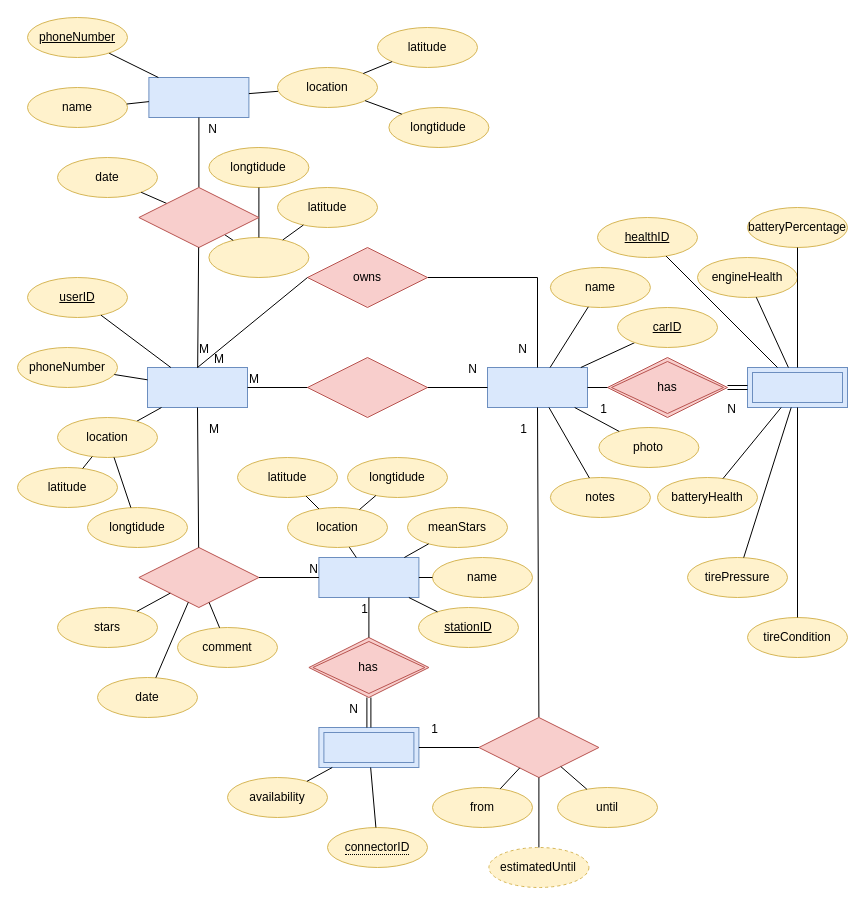
Image size: 865x905. Some labels were removed from this diagram. Here are the shapes that lost their labels. From the top down, the box of each, then its label:
(148, 76, 249, 118): RSA
(138, 186, 259, 248): calls
(208, 236, 309, 278): caller_location
(146, 366, 248, 408): User
(306, 356, 428, 418): drives
(486, 366, 588, 408): Car
(746, 366, 848, 408): Health
(138, 546, 259, 608): reviews
(318, 556, 419, 598): Charging Station
(318, 726, 419, 768): Connector
(478, 716, 599, 778): occupy
